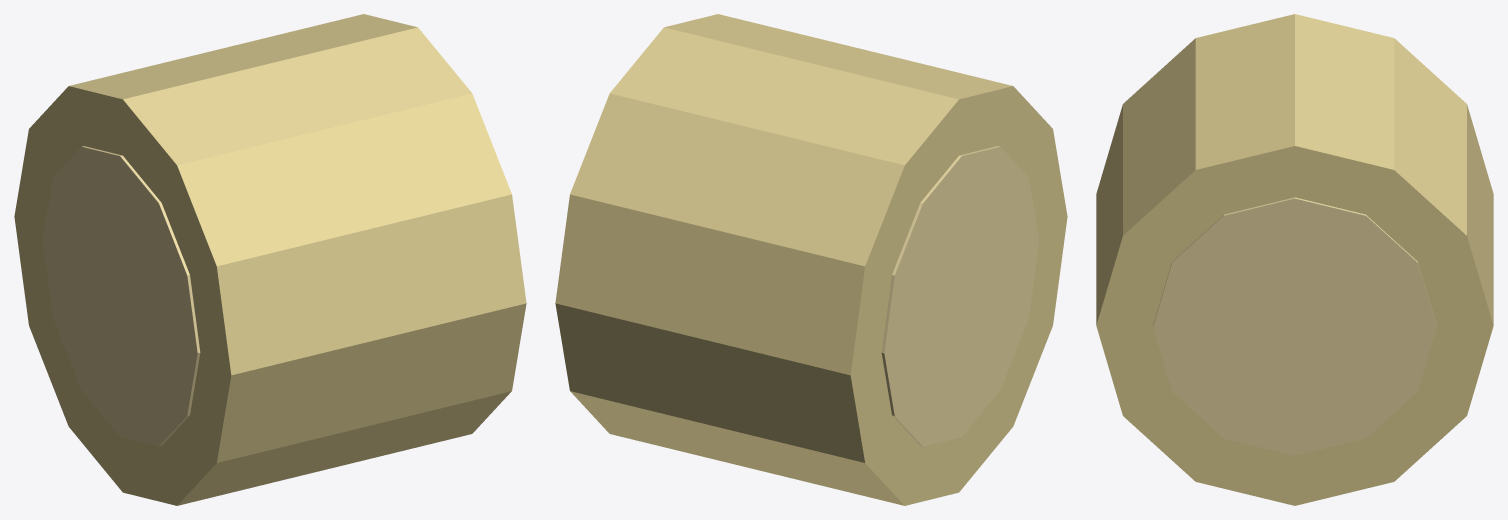
Rendered from hay_bale_round.glb.
The picture shows the model from 3 angles, left to right: view 1: azimuth 30°, elevation 25°; view 2: azimuth 150°, elevation 25°; view 3: azimuth 270°, elevation 25°; orthographic projection. The views are drawn at different scales.
Visible parts, largest first — view 1: hay_bale_round; view 2: hay_bale_round; view 3: hay_bale_round.
Part boxes in pixels (bbox=[...]): hay_bale_round: bbox=[14, 14, 526, 505]; hay_bale_round: bbox=[555, 14, 1067, 505]; hay_bale_round: bbox=[1096, 14, 1493, 505].
Bounding box in the file's own units: 1.12 × 1.4 × 1.4.
